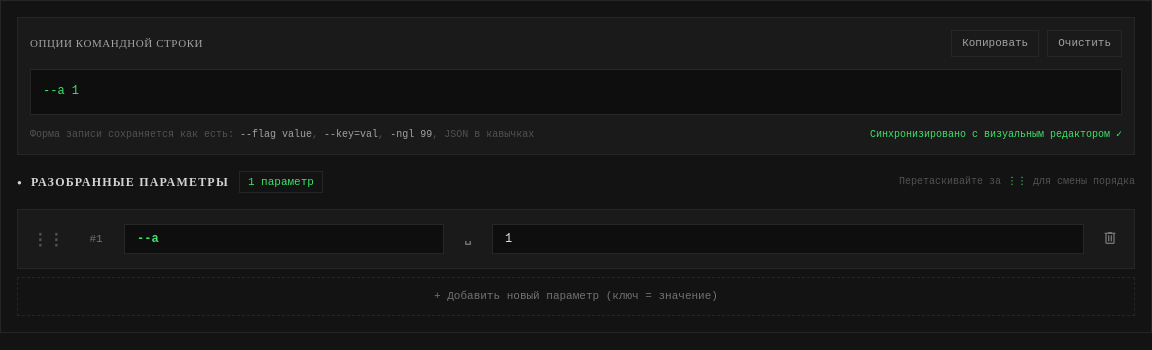
Test: ArgvEditor › очистить
Click the button "Очистить". click: coordinates (1085, 43)
box: [1047, 30, 1122, 56]
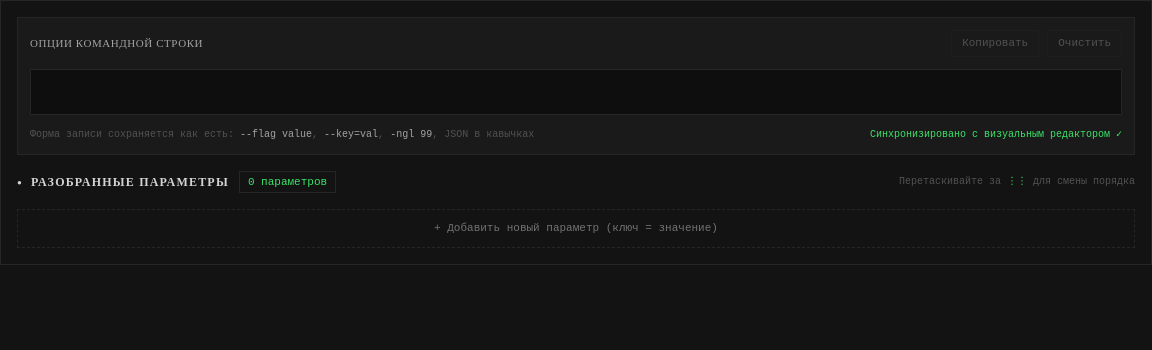
Expected: the text box with test id "argv-editor-raw" is empty, [30, 68, 1122, 114]
Expected: the text with test id "argv-editor-count" reads "0 параметров", [248, 176, 327, 188]
